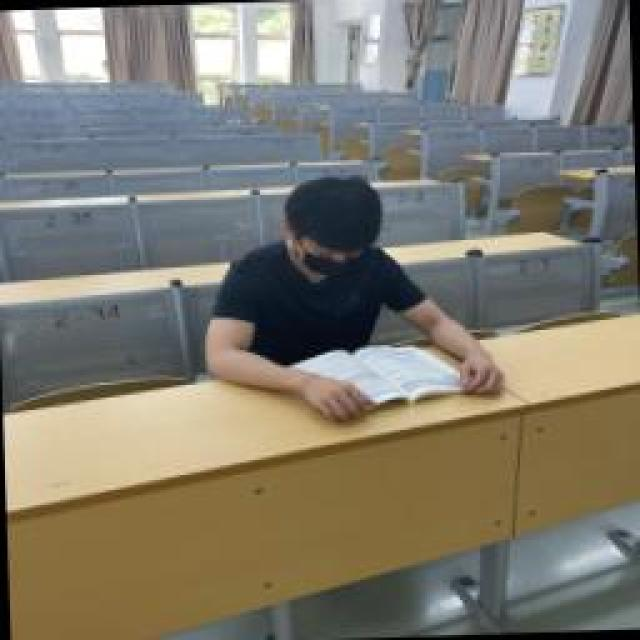study: (197, 173, 505, 425)
